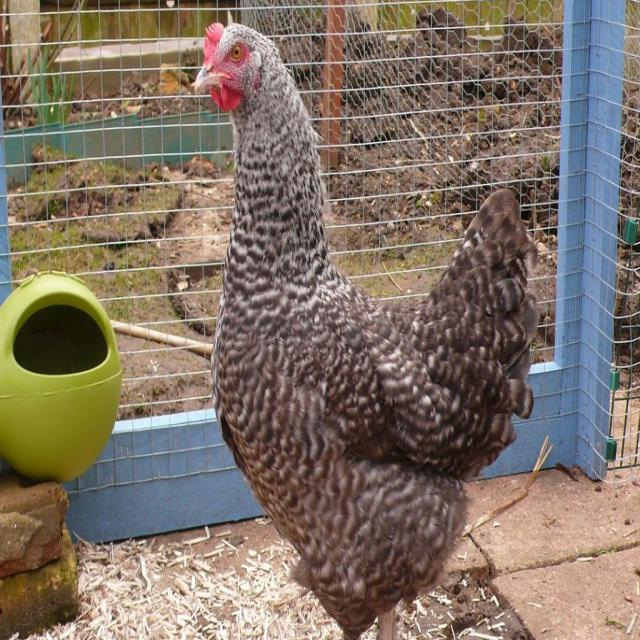Chicken: (199, 23, 550, 640)
